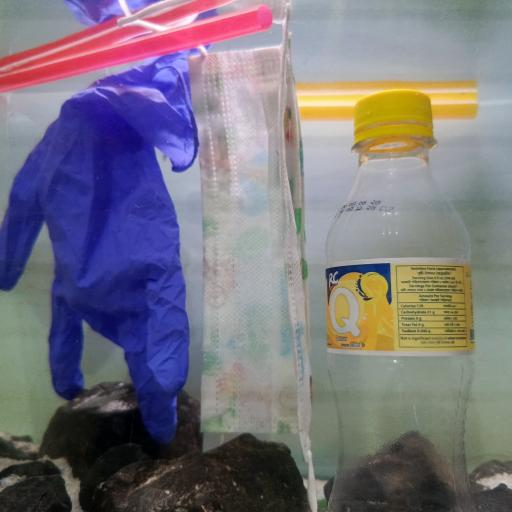bottle_cap: (354, 89, 434, 128)
glove: (0, 64, 199, 444)
mask: (114, 2, 318, 494)
plastic_bottle: (325, 88, 478, 512)
plastic_straw: (0, 5, 274, 92), (293, 81, 481, 123)
